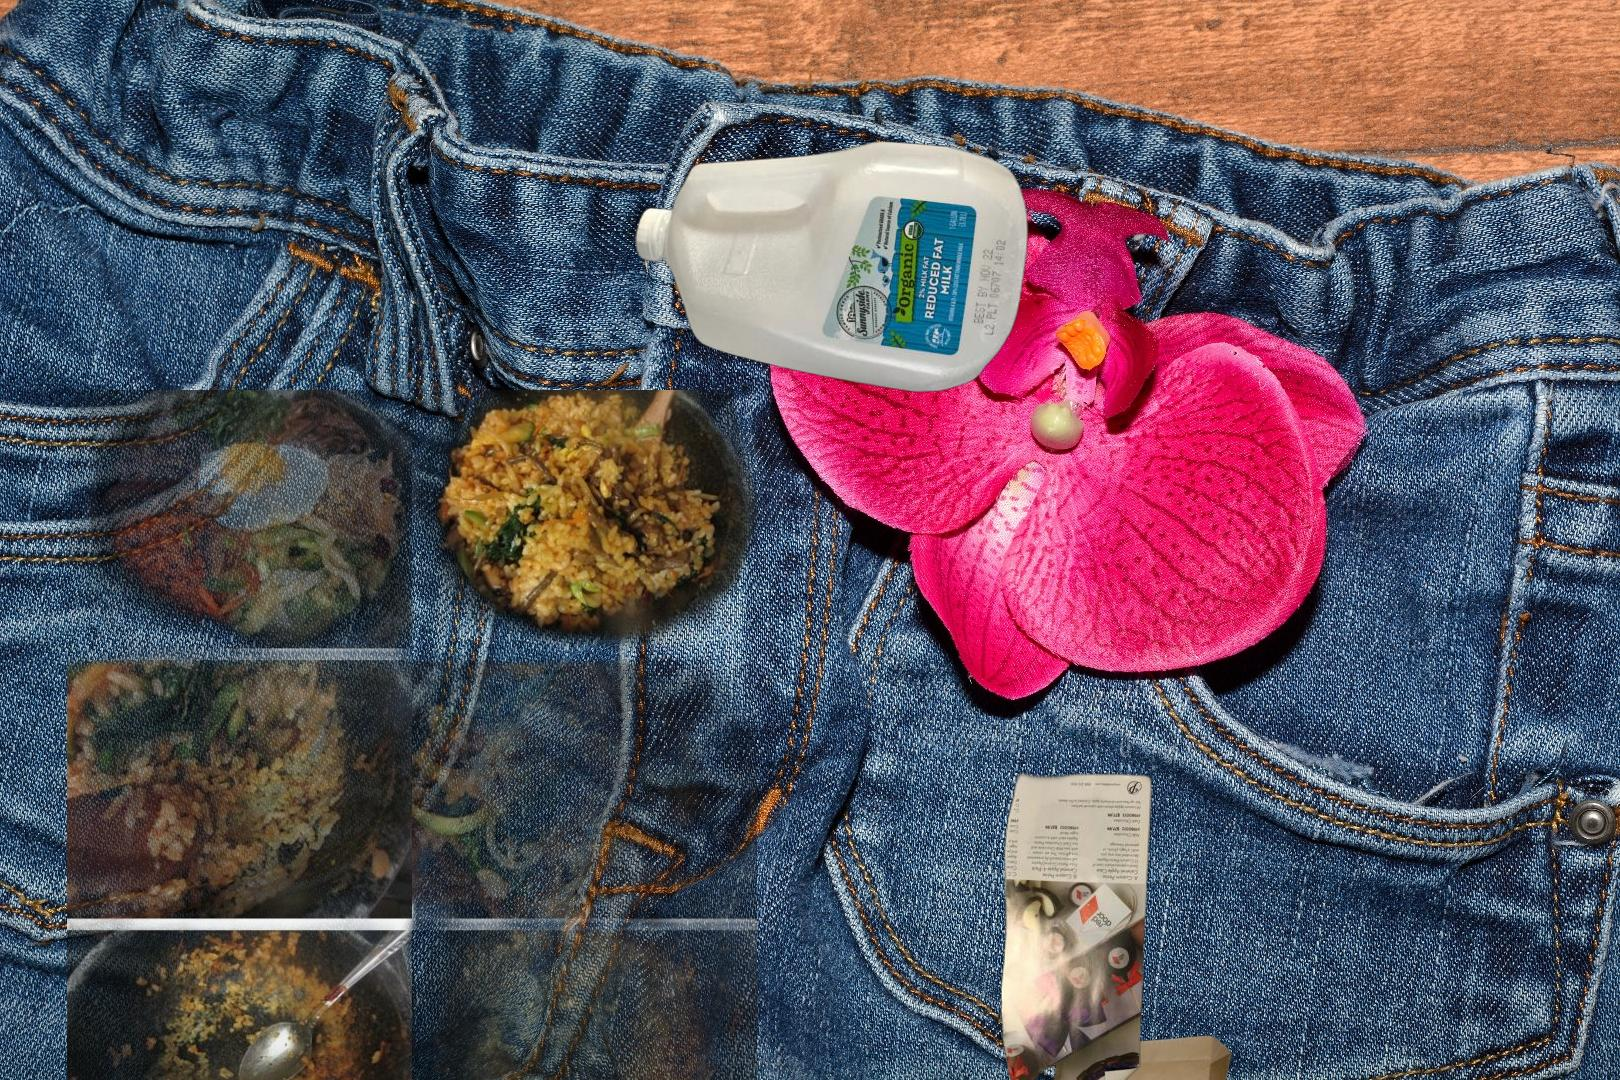biological: (67, 391, 757, 1080)
paper: (996, 765, 1157, 1080)
paper-bag: (1035, 1033, 1234, 1080)
plastic-bottles: (630, 139, 1032, 397)
